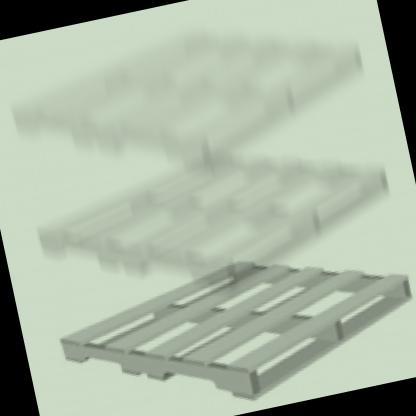BoxFace: (57, 256, 414, 404)
